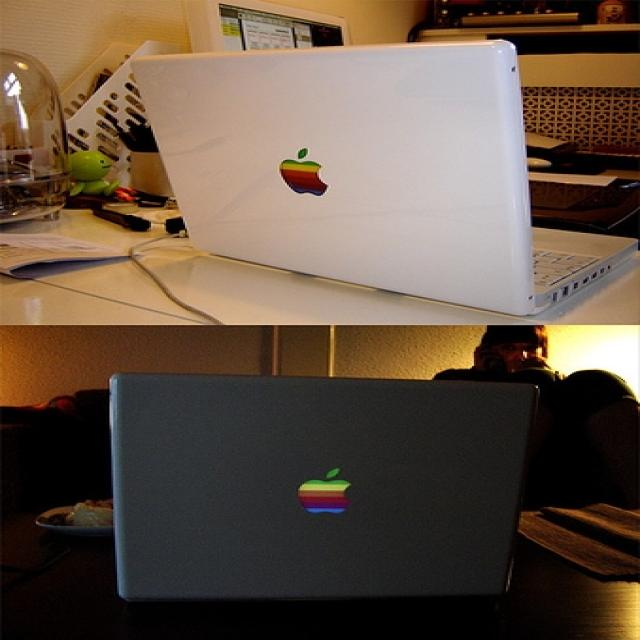apple: (286, 464, 379, 527), (271, 145, 346, 205)
